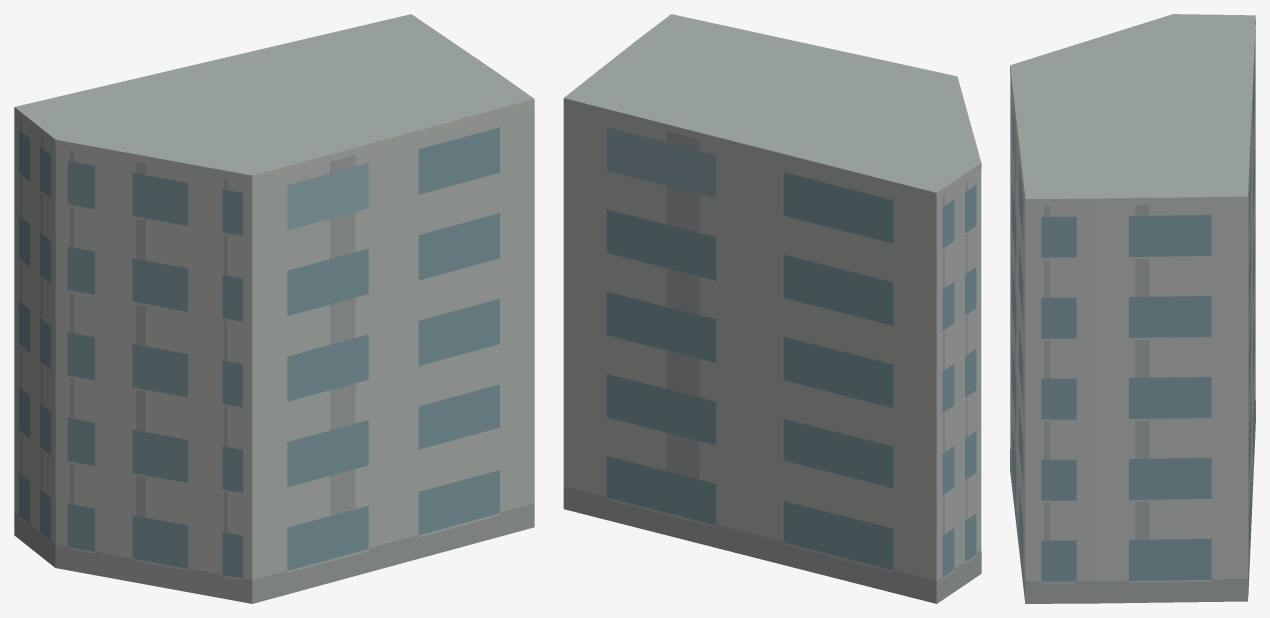
Rendered from survey-upis-32818405.glb.
3 views of the same model, side by side, from view 1: azimuth 30°, elevation 25°; view 2: azimuth 150°, elevation 25°; view 3: azimuth 270°, elevation 25° (orthographic). The views are drawn at different scales.
Parts seen in each view (by area): view 1: survey-upis-32818405.tmp; view 2: survey-upis-32818405.tmp; view 3: survey-upis-32818405.tmp.
Part boxes in pixels (<box>): survey-upis-32818405.tmp: <box>14,14,534,603</box>; survey-upis-32818405.tmp: <box>563,14,981,603</box>; survey-upis-32818405.tmp: <box>1010,14,1255,603</box>.
Size of the model in its own units: 13.93 by 14.2 by 7.82.
